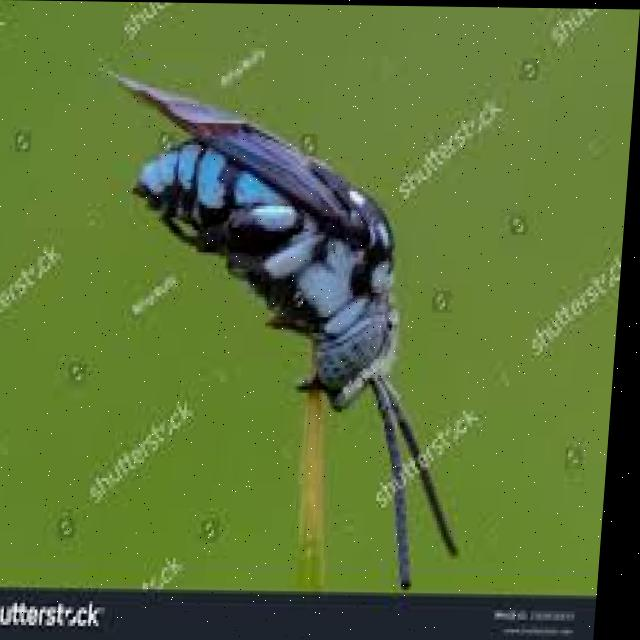Thyreus: (74, 56, 499, 562)
